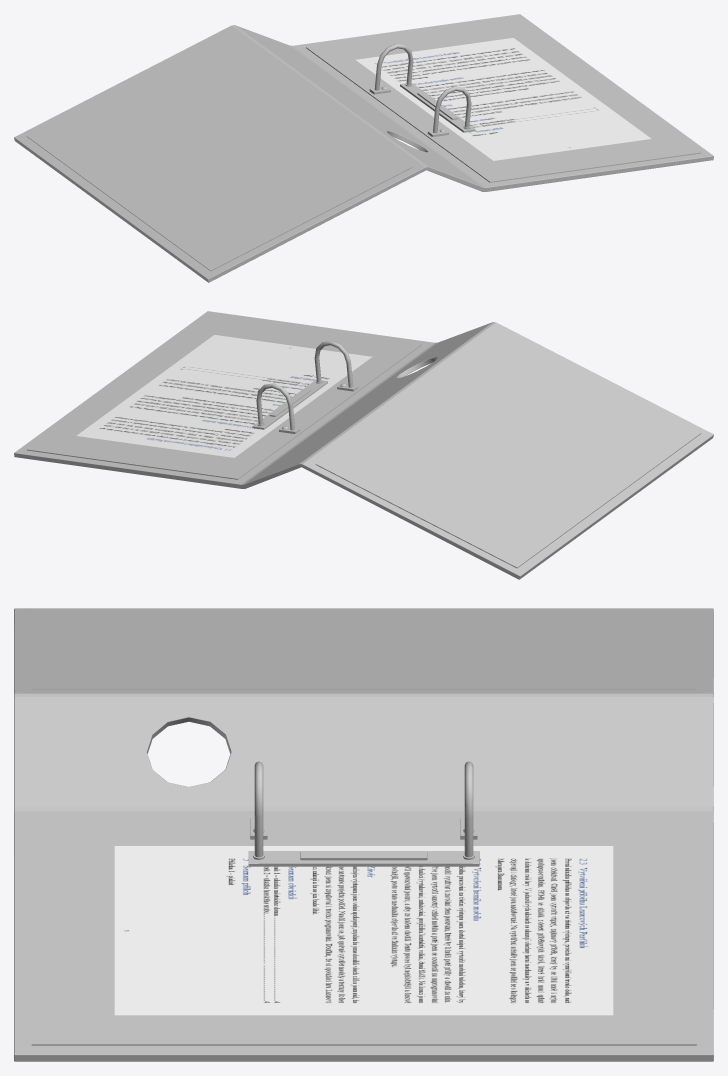
The model's file is binder opened.fbx.
3 views of the same model, one above another, from view 1: azimuth 30°, elevation 25°; view 2: azimuth 150°, elevation 25°; view 3: azimuth 270°, elevation 25° (orthographic). The views are drawn at different scales.
Parts seen in each view (by area): view 1: binder opened, paper, binder hooks, binder paper holder; view 2: binder opened, paper, binder hooks, binder paper holder; view 3: binder opened, paper, binder paper holder, binder hooks, binder paper holder top.
Part boxes in pixels (left/top/right/bottom): binder opened: left=14, top=14, right=713, bottom=282; paper: left=355, top=38, right=651, bottom=160; binder hooks: left=374, top=44, right=471, bottom=133; binder paper holder: left=400, top=82, right=475, bottom=132; binder opened: left=14, top=311, right=713, bottom=579; paper: left=76, top=335, right=372, bottom=457; binder hooks: left=256, top=341, right=353, bottom=430; binder paper holder: left=252, top=379, right=327, bottom=429; binder opened: left=14, top=608, right=713, bottom=1061; paper: left=114, top=846, right=613, bottom=1015; binder paper holder: left=248, top=851, right=479, bottom=866; binder hooks: left=253, top=761, right=474, bottom=859; binder paper holder top: left=300, top=851, right=427, bottom=860.
Size of the model in its own units: 302 by 40.22 by 200.
